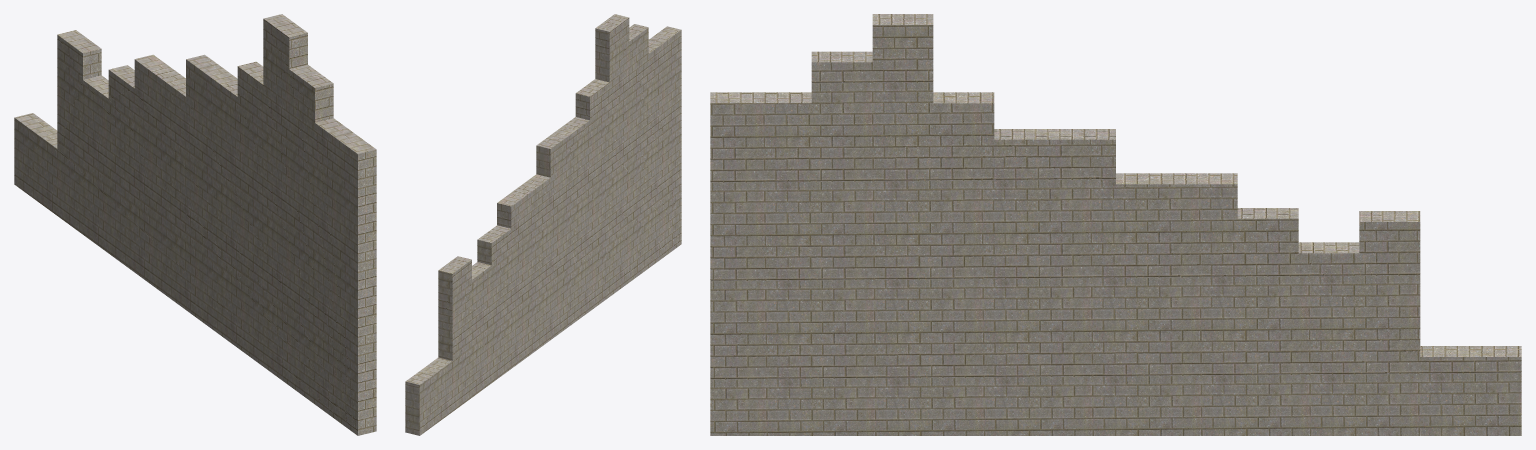
File: wall_1.fbx
The picture shows the model from 3 angles, left to right: view 1: azimuth 30°, elevation 25°; view 2: azimuth 150°, elevation 25°; view 3: azimuth 270°, elevation 25°; orthographic projection. The views are drawn at different scales.
Parts seen in each view (by area): view 1: WALL_1; view 2: WALL_1; view 3: WALL_1.
Part boxes in pixels (box(x1,y1,x2,y2)): WALL_1: box(14, 14, 376, 435); WALL_1: box(405, 14, 681, 435); WALL_1: box(710, 14, 1521, 435).
Bounding box in the file's own units: 20.75 × 367 × 656.
1 material, 1 textured.
